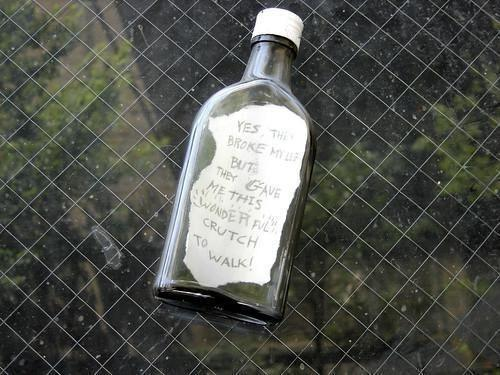bottle-glass: (152, 7, 317, 326)
